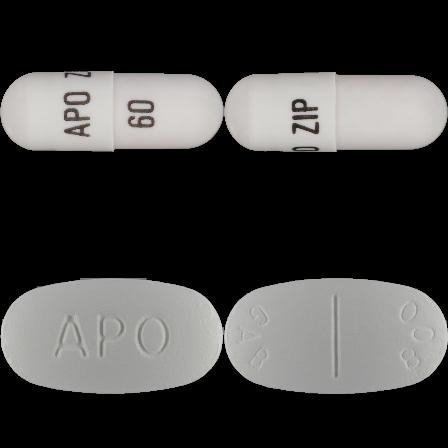60429-767: (0, 0, 224, 224)
